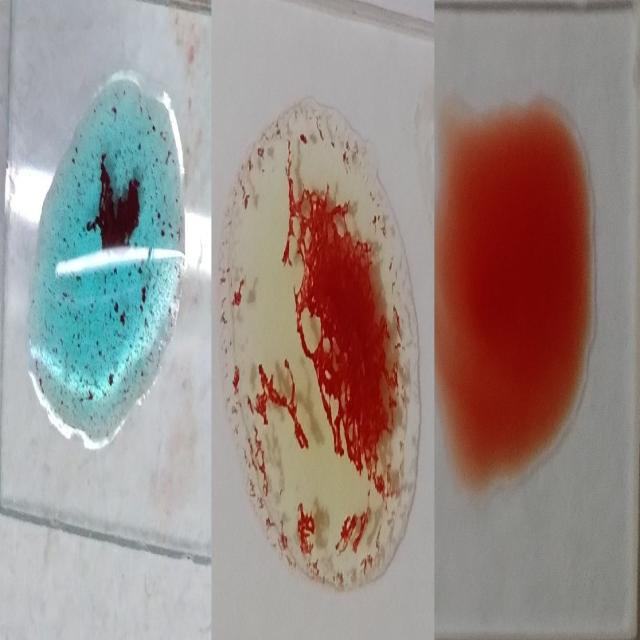A: (35, 66, 185, 447)
B: (222, 98, 418, 584)
